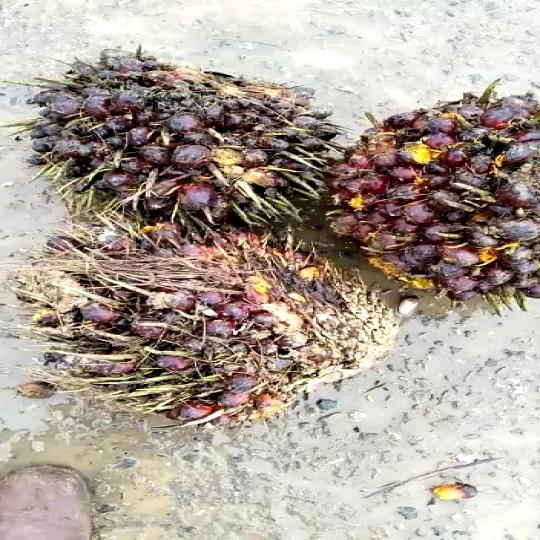kurang masak: (0, 224, 414, 432), (35, 46, 346, 240), (317, 83, 540, 294)
